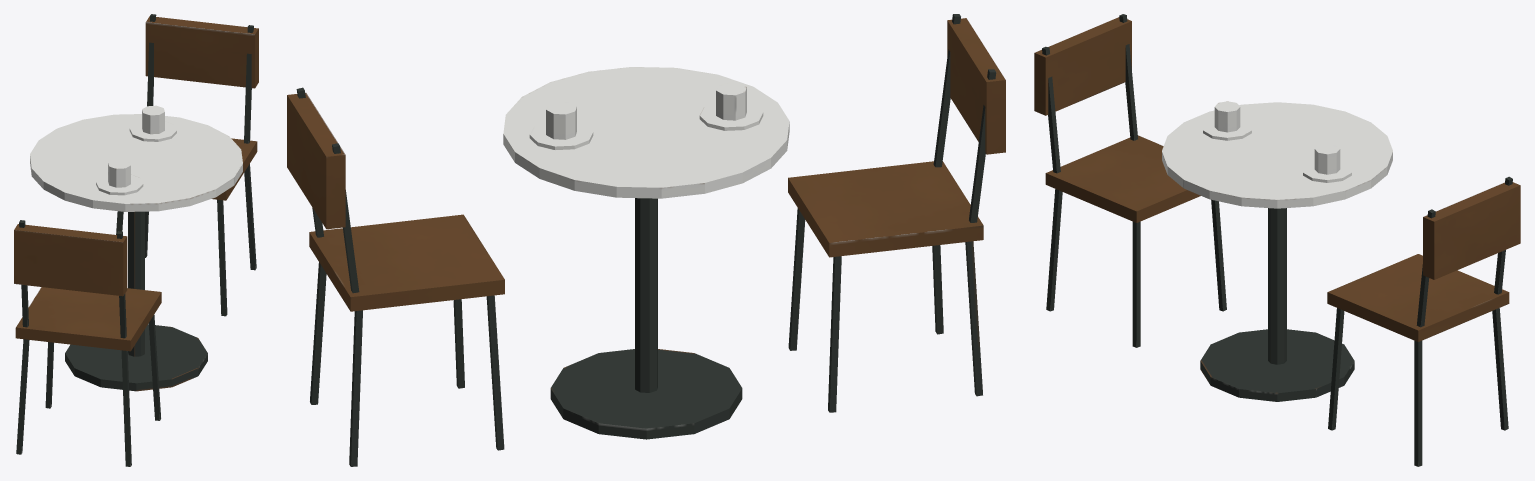
Rendered from stolek_kavarna_d4a5015b.glb.
The picture shows the model from 3 angles, left to right: view 1: azimuth 30°, elevation 25°; view 2: azimuth 150°, elevation 25°; view 3: azimuth 270°, elevation 25°; orthographic projection. The views are drawn at different scales.
Visible parts, largest first — view 1: dum; view 2: dum; view 3: dum.
Boxes of the visible parts, bbox=[...] form: dum: bbox=[14, 14, 258, 466]; dum: bbox=[287, 14, 1005, 466]; dum: bbox=[1034, 14, 1520, 466].
Bounding box in the file's own units: 1.51 × 0.8796 × 1.51.
Materials: 1 (1 with a texture image).
